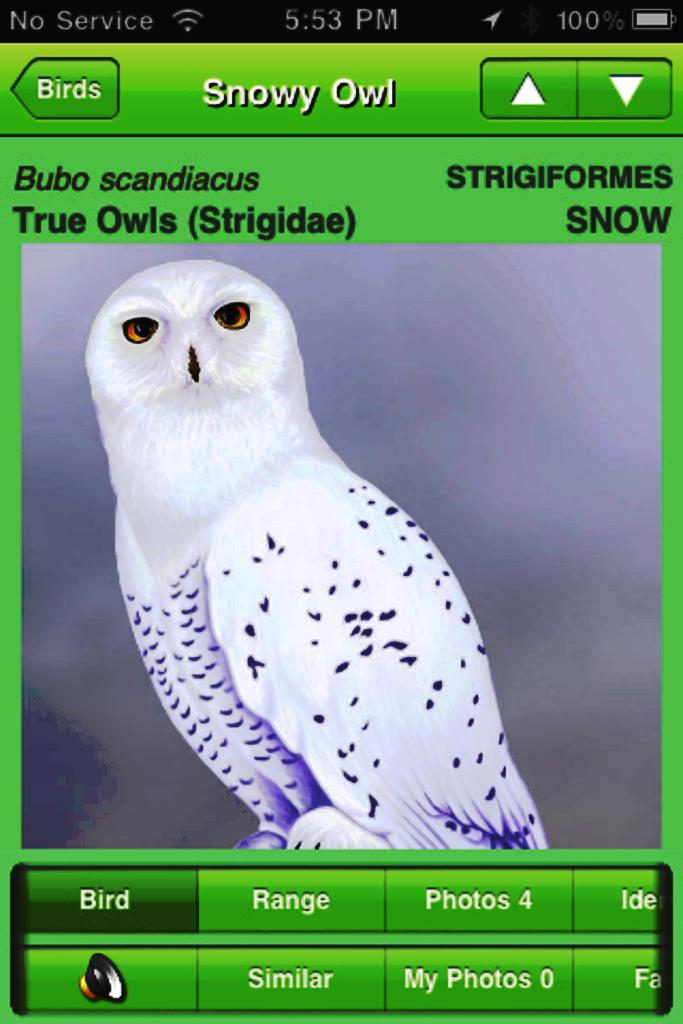Owl: (86, 254, 548, 851)
